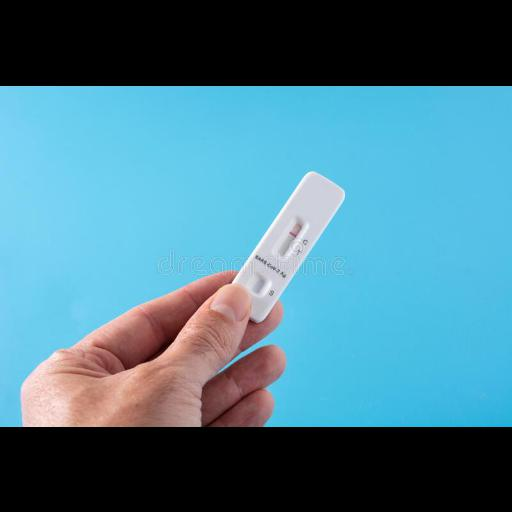Neg: (221, 168, 351, 325)
